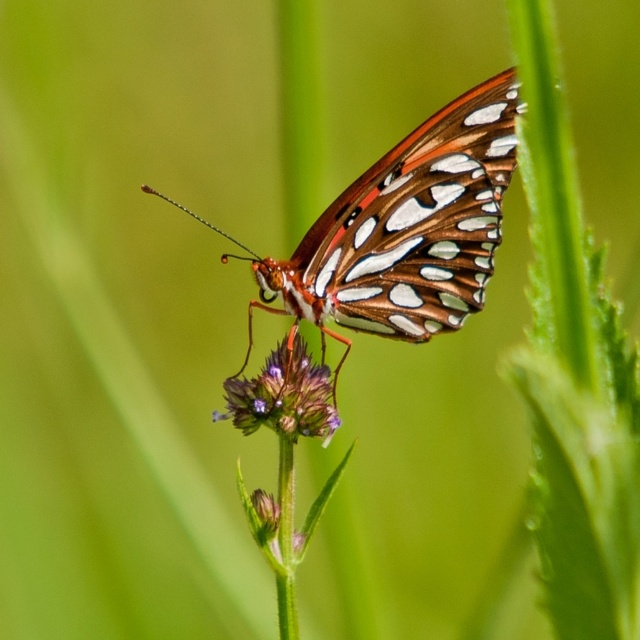Butterfly: (141, 65, 529, 420)
